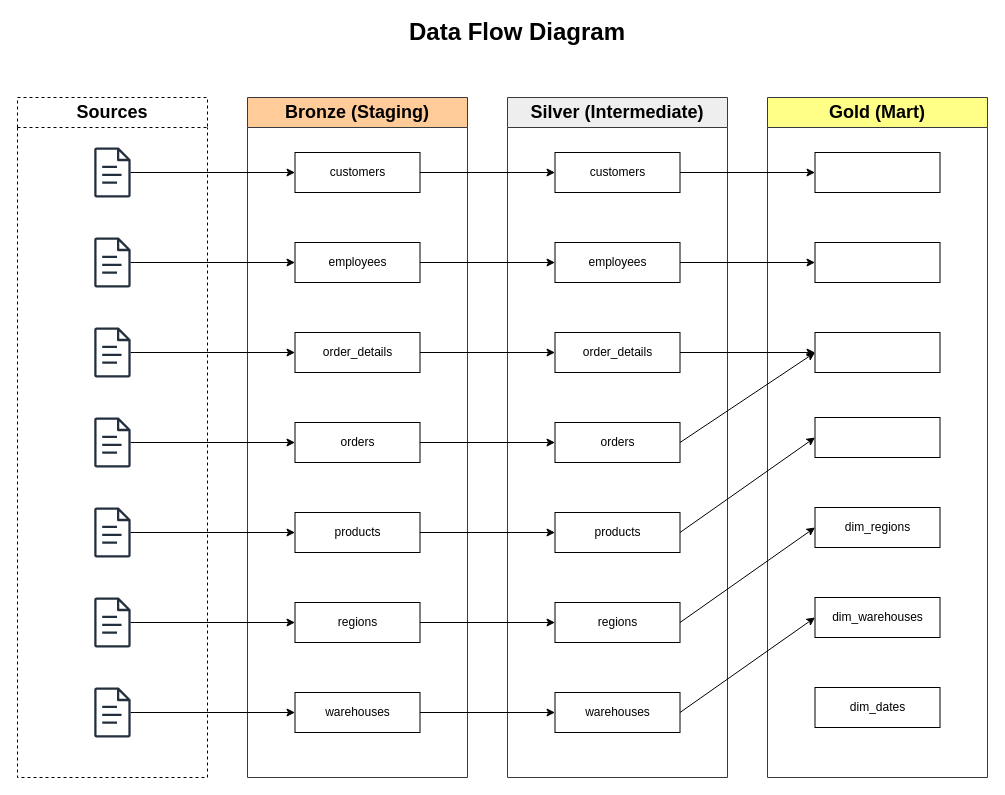
This 1005x795 diagram has some shape labels left out. The shapes that lost their labels are listed below. From the top down, each one's centre as x and y in pixels, then its label:
At (x=112, y=172): "Customer.csv".
At (x=877, y=172): "dim_customers".
At (x=112, y=262): "Employee.csv".
At (x=877, y=262): "dim_employees".
At (x=112, y=352): "OrderDetails.csv".
At (x=877, y=352): "fact_order_details".
At (x=112, y=442): "Orders.csv".
At (x=877, y=437): "dim_products".
At (x=112, y=532): "Product.csv".
At (x=112, y=622): "Region.csv".
At (x=112, y=712): "Warehouse.csv".
